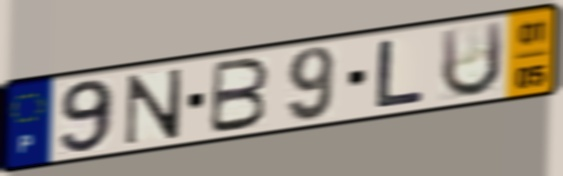9: (57, 77, 118, 157), (283, 43, 342, 124)
B: (205, 54, 273, 137)
L: (372, 36, 427, 111)
N: (121, 65, 186, 148)
U: (437, 17, 507, 101)
